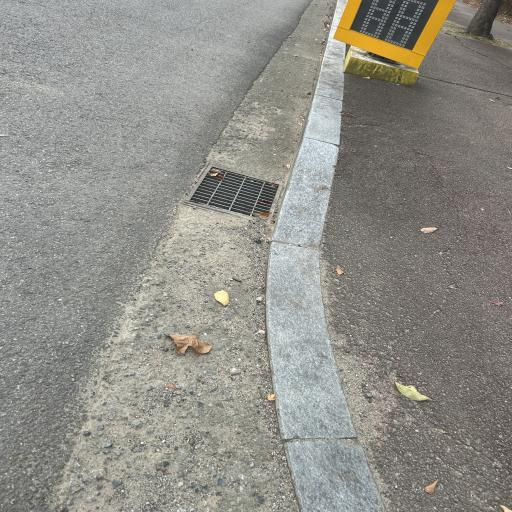drain: (186, 166, 281, 217)
